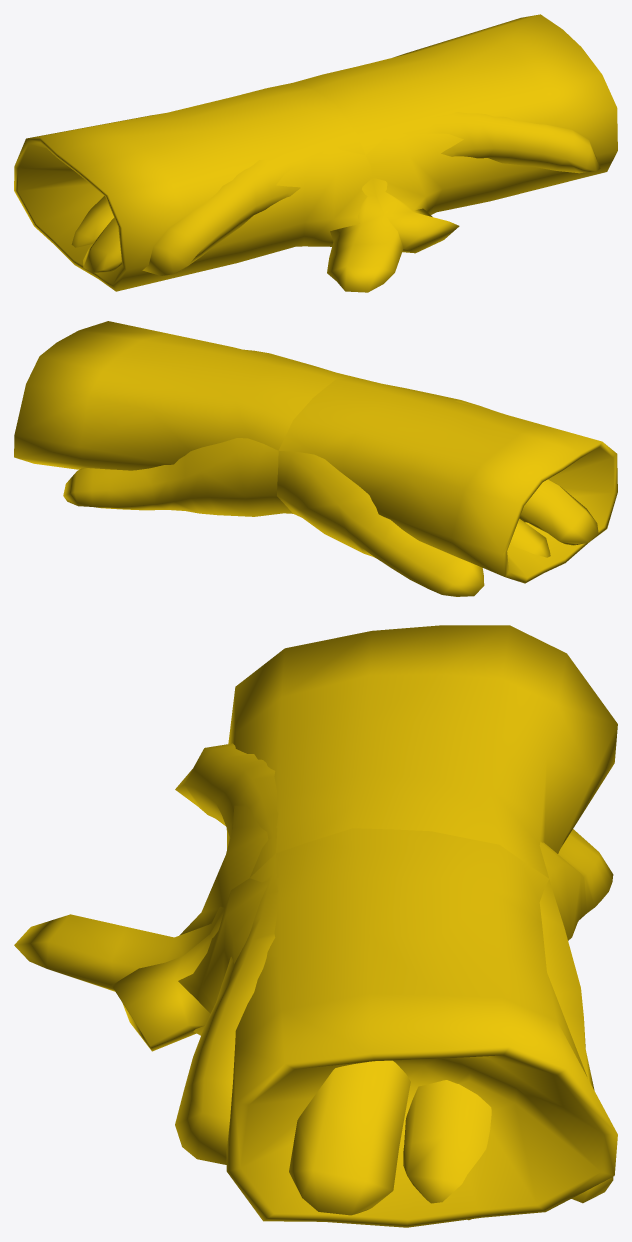
Rendered from Gloves_Metal_Destroy.fbx.
The picture shows the model from 3 angles, top to bottom: view 1: azimuth 30°, elevation 25°; view 2: azimuth 150°, elevation 25°; view 3: azimuth 270°, elevation 25°; orthographic projection. The views are drawn at different scales.
Visible parts, largest first — view 1: GloveMetLeft_Destr, GloveMetRight_Destr; view 2: GloveMetLeft_Destr, GloveMetRight_Destr; view 3: GloveMetRight_Destr, GloveMetLeft_Destr.
Part boxes in pixels (bbox=[...]): GloveMetLeft_Destr: bbox=[14, 83, 600, 291]; GloveMetRight_Destr: bbox=[71, 14, 617, 292]; GloveMetLeft_Destr: bbox=[63, 349, 617, 583]; GloveMetRight_Destr: bbox=[14, 321, 598, 596]; GloveMetRight_Destr: bbox=[14, 743, 617, 1227]; GloveMetLeft_Destr: bbox=[111, 625, 617, 1220].
Size of the model in its own units: 0.3317 by 0.078 by 0.1991.
